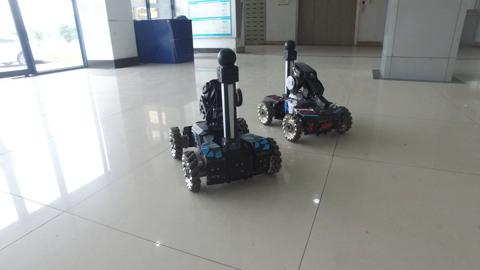chariot: (173, 50, 287, 191), (256, 40, 353, 150)
